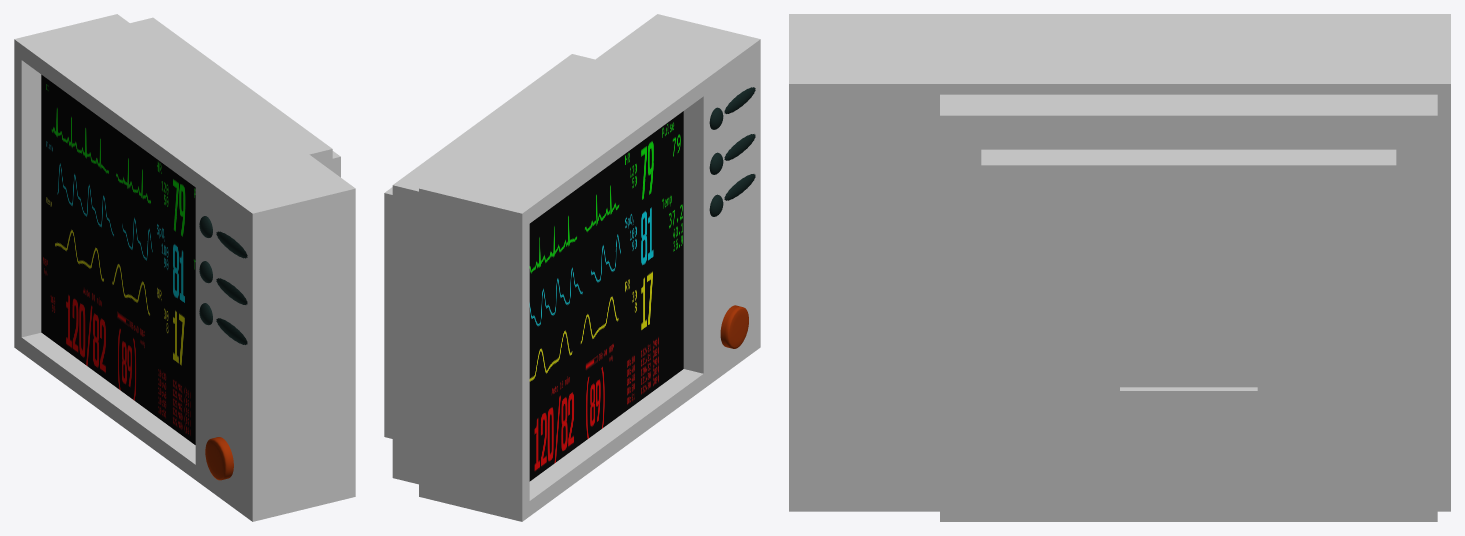
Rendered from ICU Monitor.fbx.
3 views of the same model, side by side, from view 1: azimuth 30°, elevation 25°; view 2: azimuth 150°, elevation 25°; view 3: azimuth 270°, elevation 25° (orthographic). The views are drawn at different scales.
Parts seen in each view (by area): view 1: pCube108, pCylinder1; view 2: pCube108, pCylinder1; view 3: pCube108.
Boxes of the visible parts, x1=… form: pCube108: x1=14, y1=14, x2=355, y2=521; pCylinder1: x1=205, y1=437, x2=233, y2=480; pCube108: x1=384, y1=14, x2=760, y2=521; pCylinder1: x1=720, y1=305, x2=748, y2=348; pCube108: x1=789, y1=14, x2=1450, y2=521.
Bounding box in the file's own units: 1.04 × 1.85 × 2.59.
4 materials, 1 textured.
